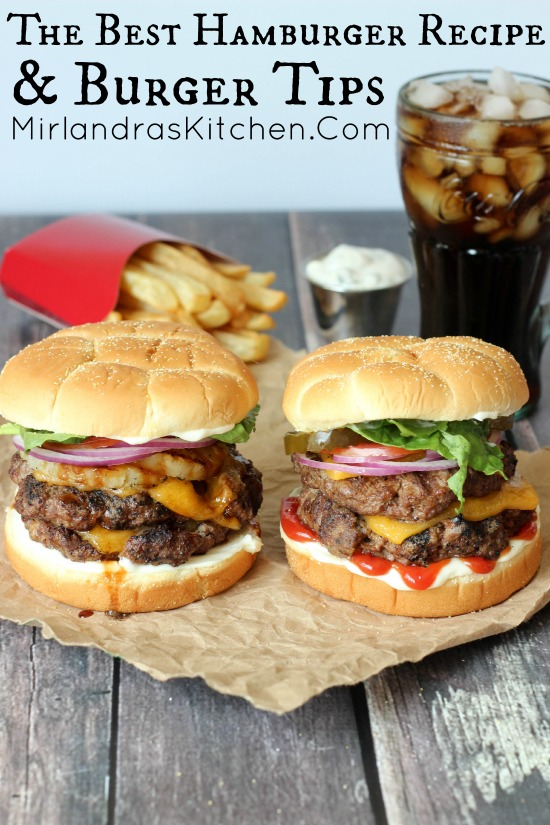hamburger: (279, 328, 542, 627), (3, 335, 259, 610)
